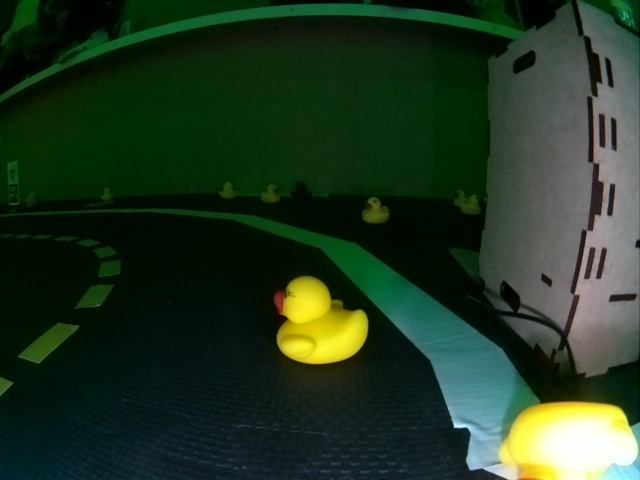Duckie: (505, 400, 639, 476), (273, 278, 367, 361), (362, 198, 388, 222), (460, 197, 481, 214), (261, 184, 278, 202), (219, 182, 235, 198), (454, 190, 466, 206), (101, 188, 113, 199), (27, 193, 37, 206)
Intersection sign: (8, 165, 18, 181)
QR code: (9, 183, 19, 202)
